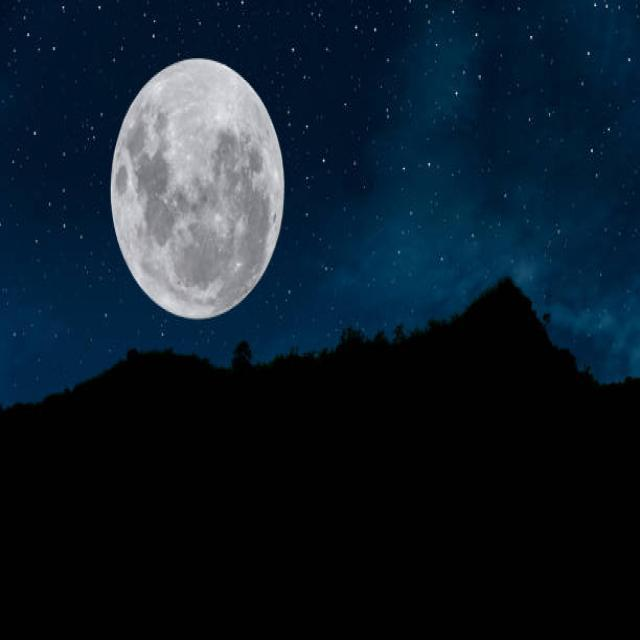moon: (108, 49, 286, 320)
